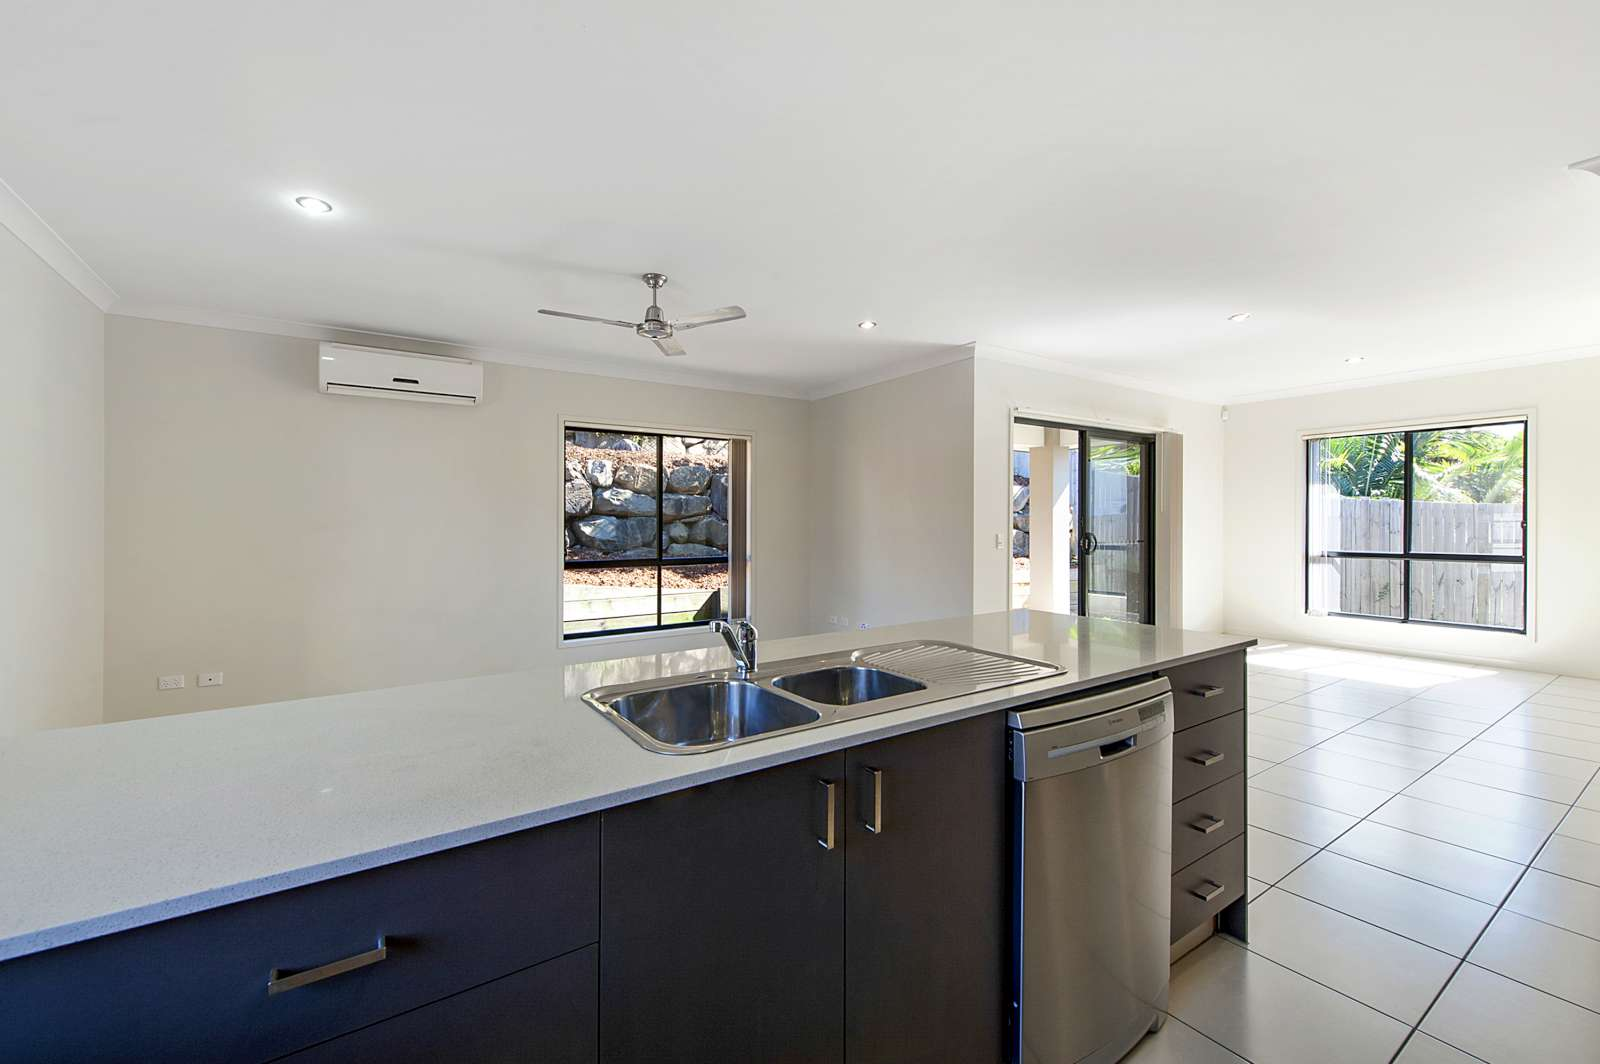ceiling fan: (523, 261, 763, 384)
